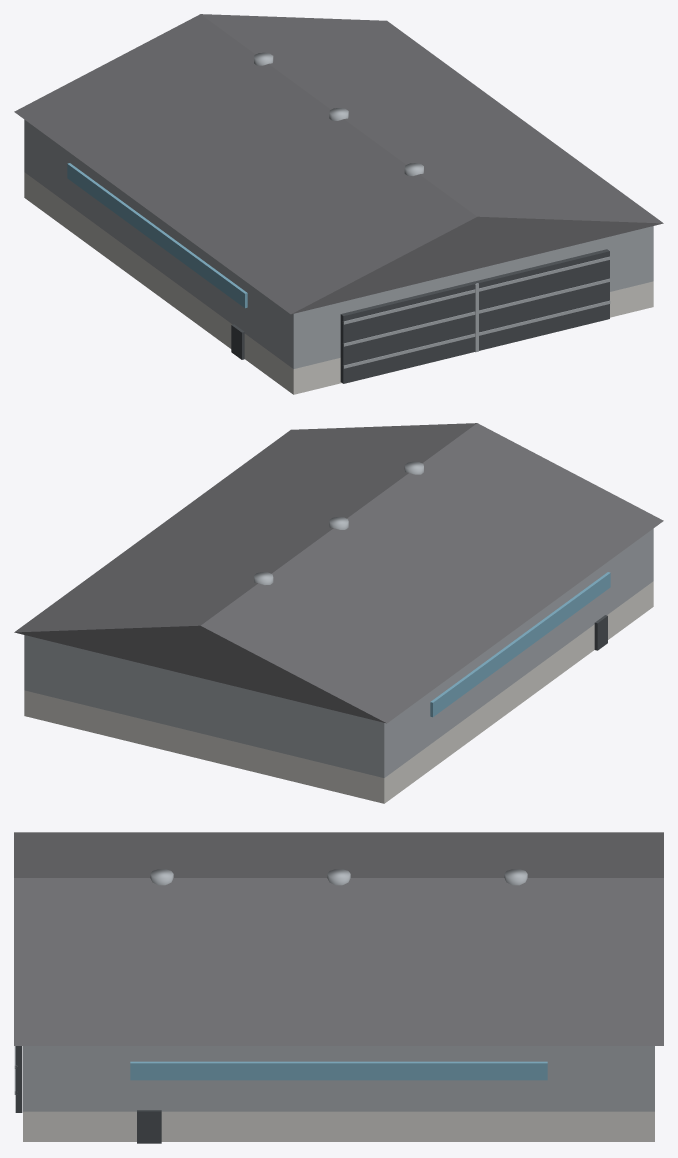
The model's file is hangar_large.glb.
3 renders of one model, top to bottom at view 1: azimuth 30°, elevation 25°; view 2: azimuth 150°, elevation 25°; view 3: azimuth 270°, elevation 25°, orthographic. The views are drawn at different scales.
Visible parts, largest first — view 1: hangar_roof, hangar_walls, hangar_door, hangar_base, hangar_side_glass, hangar_door_rail.002, hangar_door_rail, hangar_door_rail.001; view 2: hangar_roof, hangar_walls, hangar_base, hangar_side_glass; view 3: hangar_roof, hangar_walls, hangar_base, hangar_side_glass.001, hangar_personnel.001, hangar_door.
Boxes of the visible parts, x1=… form: hangar_roof: x1=14, y1=14, x2=663, y2=314; hangar_walls: x1=24, y1=119, x2=653, y2=368; hangar_door: x1=340, y1=249, x2=609, y2=383; hangar_base: x1=24, y1=172, x2=653, y2=394; hangar_side_glass: x1=67, y1=163, x2=247, y2=308; hangar_door_rail.002: x1=342, y1=256, x2=610, y2=324; hangar_door_rail: x1=343, y1=300, x2=610, y2=368; hangar_door_rail.001: x1=343, y1=278, x2=610, y2=346; hangar_roof: x1=14, y1=423, x2=663, y2=723; hangar_walls: x1=24, y1=528, x2=653, y2=777; hangar_base: x1=24, y1=581, x2=653, y2=803; hangar_side_glass: x1=430, y1=572, x2=610, y2=717; hangar_roof: x1=14, y1=832, x2=663, y2=1045; hangar_walls: x1=23, y1=1046, x2=654, y2=1111; hangar_base: x1=23, y1=1111, x2=654, y2=1141; hangar_side_glass.001: x1=130, y1=1061, x2=547, y2=1080; hangar_personnel.001: x1=137, y1=1110, x2=161, y2=1143; hangar_door: x1=15, y1=1046, x2=22, y2=1112.
Bounding box in the file's own units: 45.6 × 16.4 × 58.6.
